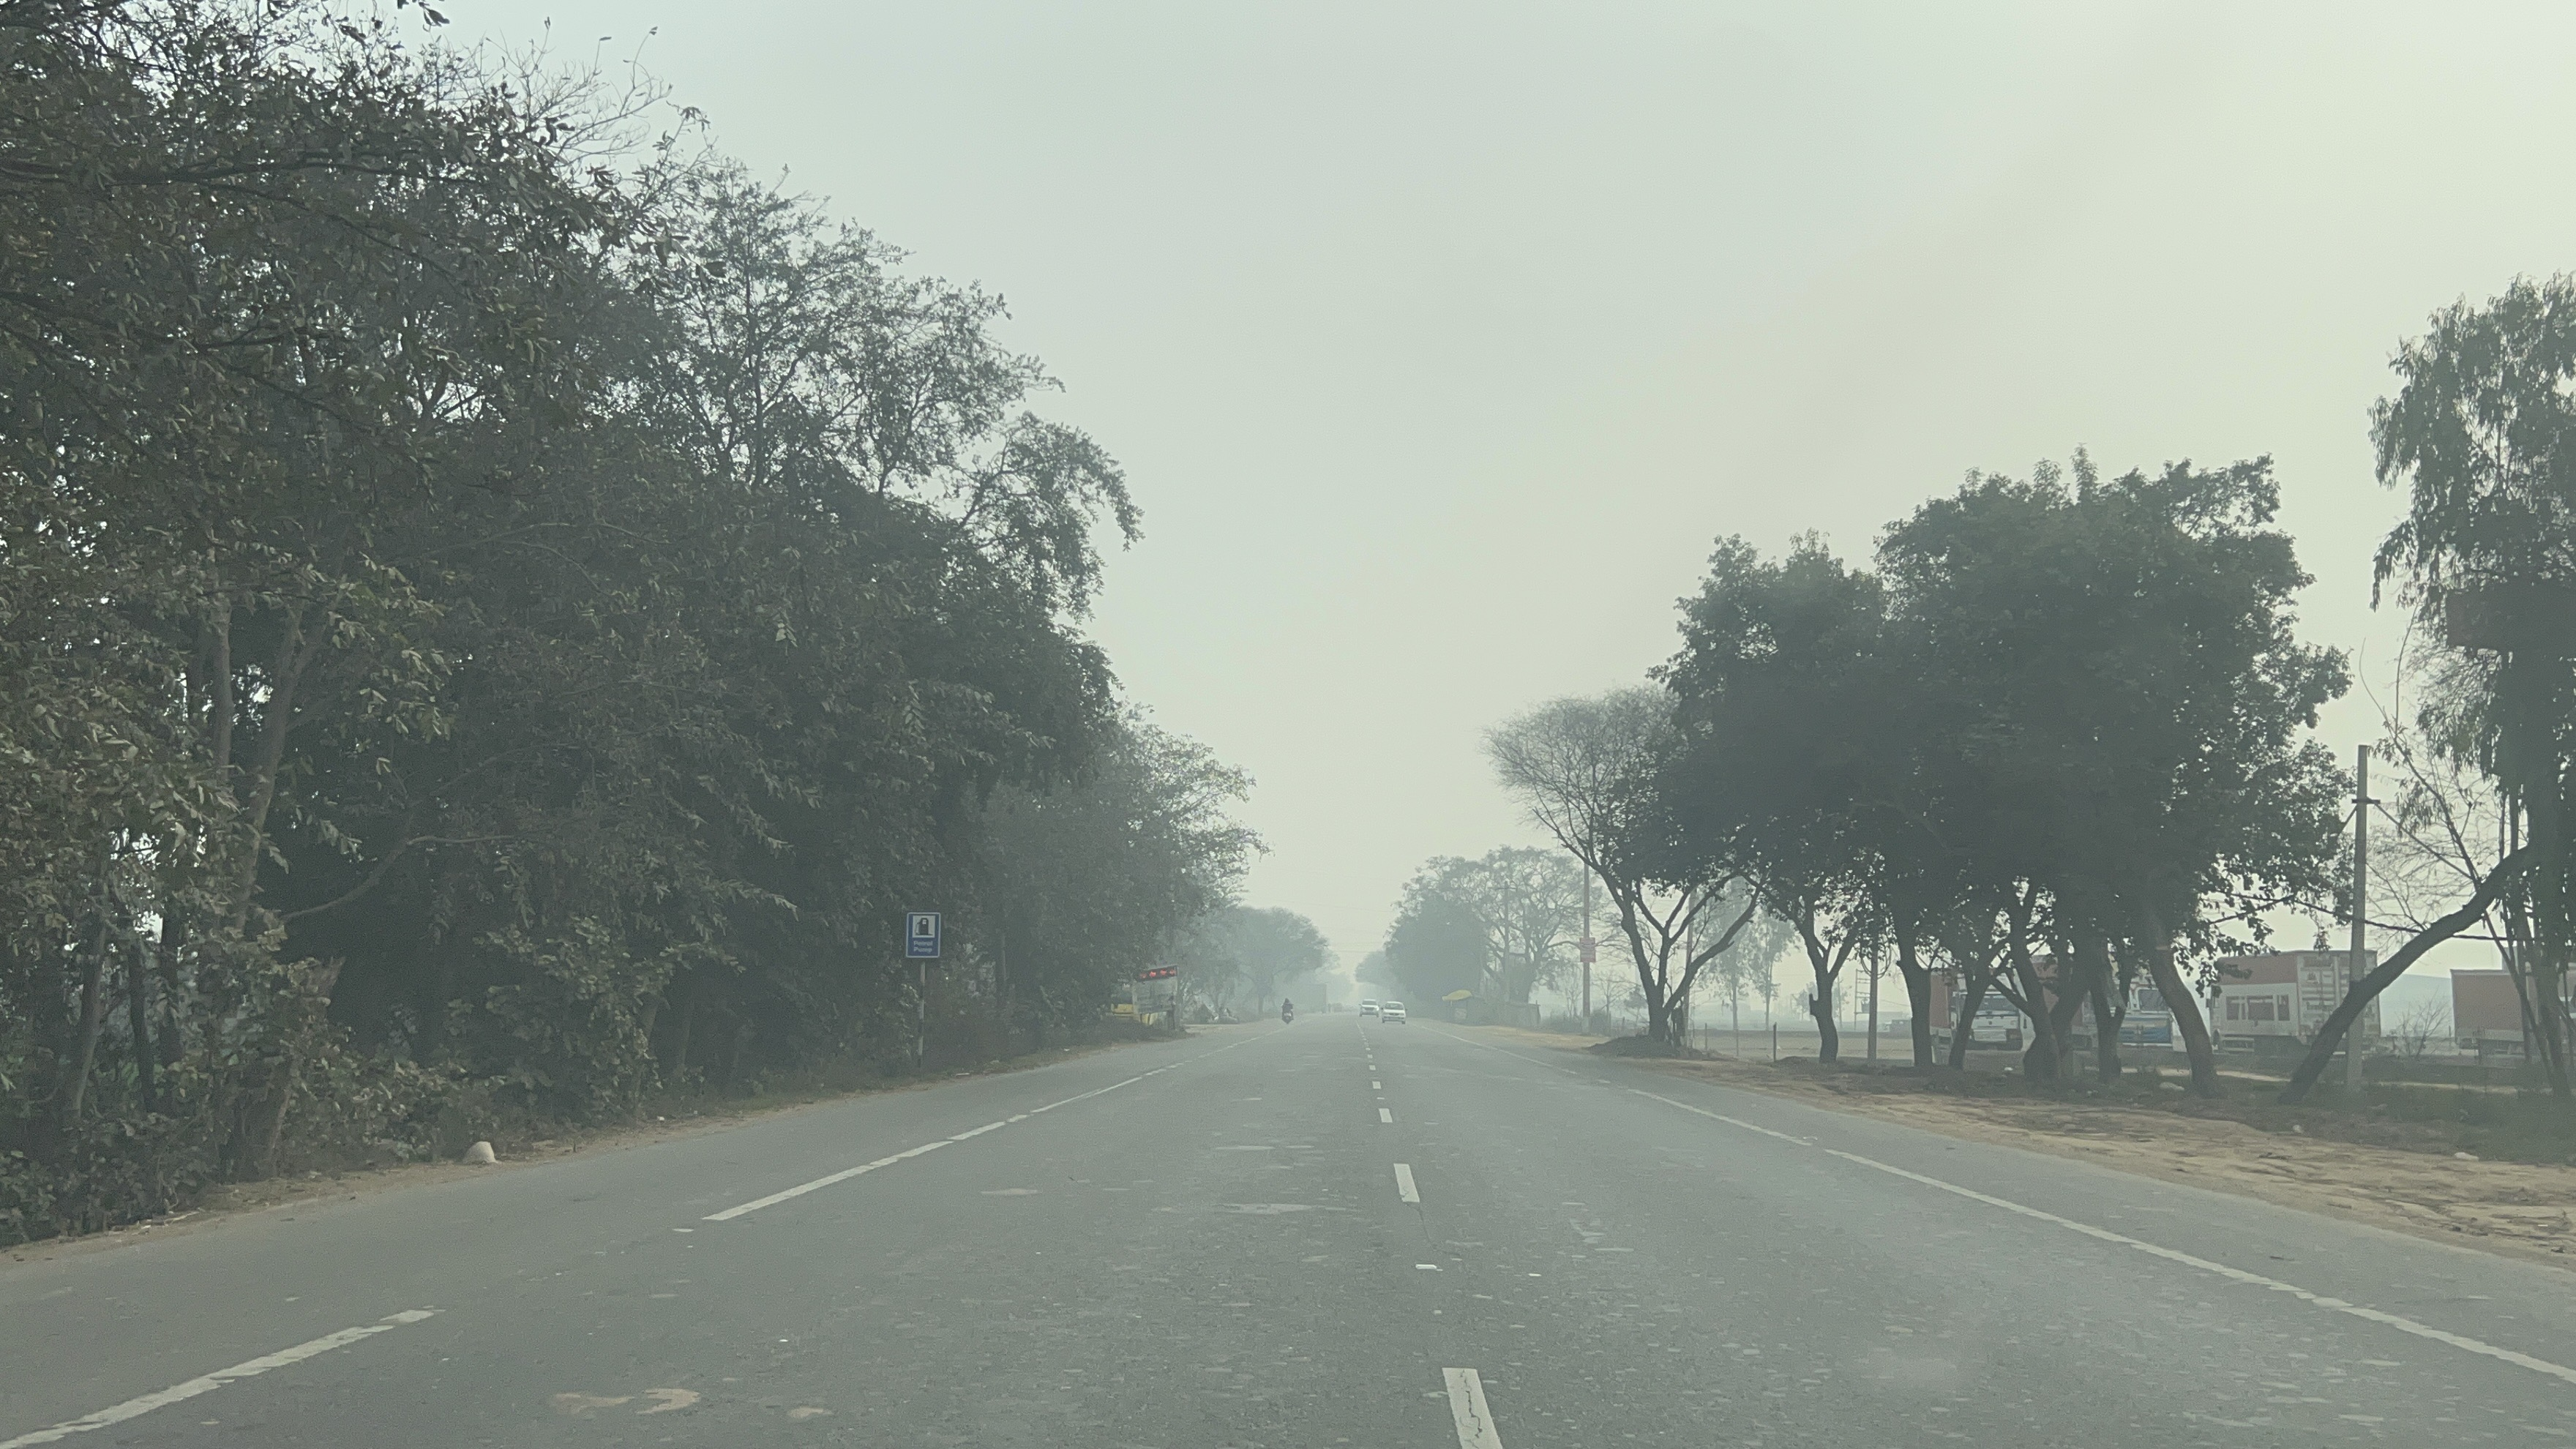Informatory: (894, 901, 954, 967)
